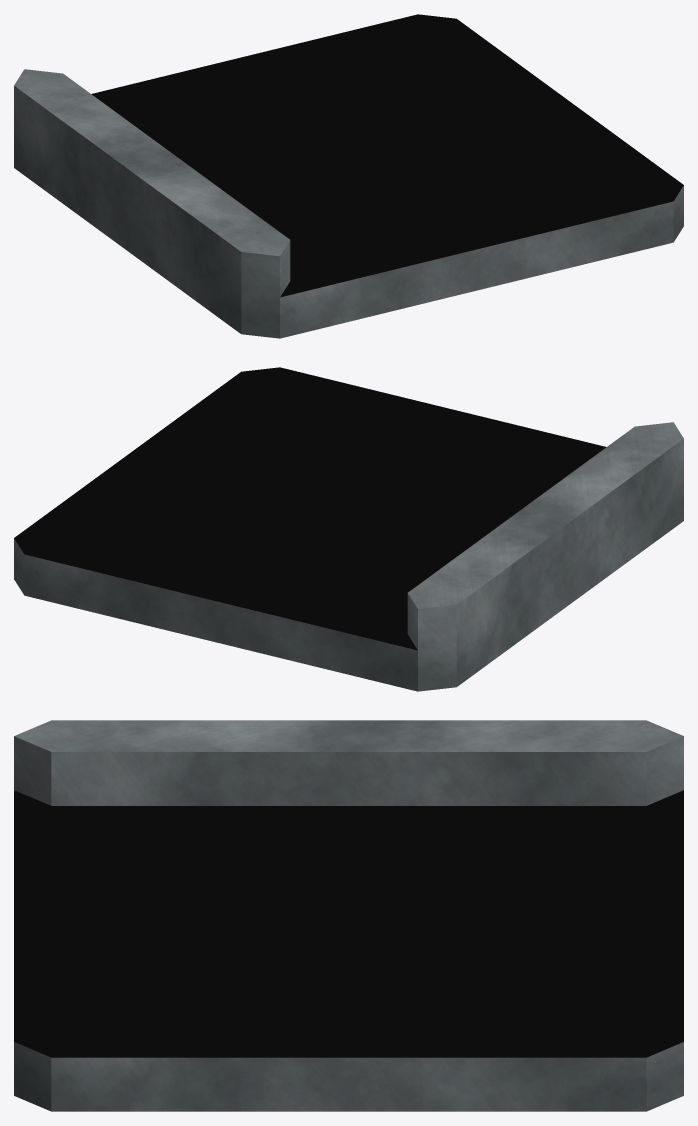
File: Road Edge.fbx
The picture shows the model from 3 angles, top to bottom: view 1: azimuth 30°, elevation 25°; view 2: azimuth 150°, elevation 25°; view 3: azimuth 270°, elevation 25°; orthographic projection. The views are drawn at different scales.
Parts seen in each view (by area): view 1: roof_side_0; view 2: roof_side_0; view 3: roof_side_0.
Part boxes in pixels (left/top/right/bottom): roof_side_0: left=14, top=14, right=683, bottom=338; roof_side_0: left=14, top=367, right=683, bottom=691; roof_side_0: left=14, top=720, right=683, bottom=1111.
Bounding box in the file's own units: 11.25 × 2 × 11.25.
Materials: 2 (1 with a texture image).
